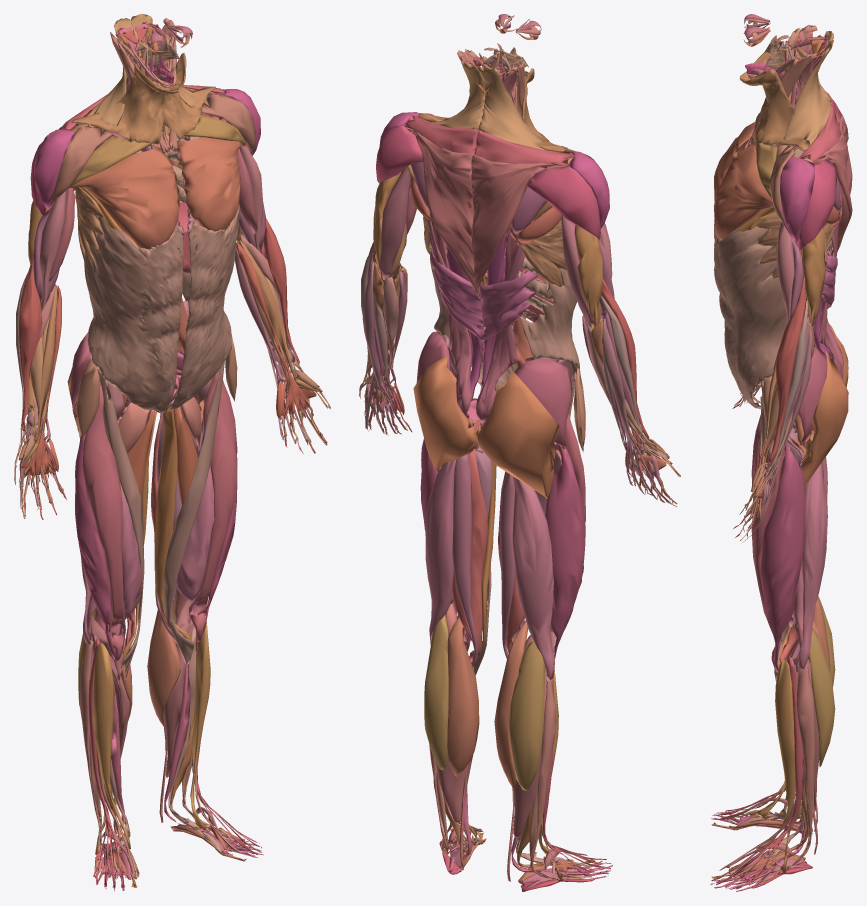
The model's file is body-muscles.lod1.glb.
3 views of the same model, side by side, from view 1: azimuth 30°, elevation 25°; view 2: azimuth 150°, elevation 25°; view 3: azimuth 270°, elevation 25° (orthographic).
Visible parts, largest first — view 1: external-oblique-r, external-oblique-l, sternocostal-part-of-pectoralis-major-r, rectus-femoris-r, sternocostal-part-of-pectoralis-major-l, rectus-femoris-l, sartorius-l, vastus-lateralis-r, platysma-r, gracilis-l, sartorius-r, tibialis-anterior-r (+43 smaller); view 2: gluteus-maximus-r, long-head-of-biceps-femoris-r, vastus-lateralis-r, ascending-part-of-trapezius-l, ascending-part-of-trapezius-r, gluteus-maximus-l, lateral-head-of-gastrocnemius-r, medial-head-of-gastrocnemius-l, long-head-of-biceps-femoris-l, external-oblique-r, semitendinosus-l, lateral-head-of-gastrocnemius-l (+44 smaller); view 3: external-oblique-l, vastus-lateralis-l, long-head-of-biceps-femoris-l, sternocostal-part-of-pectoralis-major-l, gluteus-maximus-l, tibialis-anterior-l, platysma-l, descending-part-of-trapezius-l, acromial-part-of-deltoid-l, brachioradialis-l, lateral-head-of-gastrocnemius-l, fibularis-longus-l (+33 smaller).
Boxes of the visible parts, x1,y1,x2,y2 form: external-oblique-r: (84,216,183,412); external-oblique-l: (168,203,240,409); sternocostal-part-of-pectoralis-major-r: (69,146,179,248); rectus-femoris-r: (82,382,125,661); sternocostal-part-of-pectoralis-major-l: (177,137,241,231); rectus-femoris-l: (188,370,237,642); sartorius-l: (163,361,224,664); vastus-lateralis-r: (75,433,116,660); platysma-r: (71,64,176,144); gracilis-l: (155,407,191,640); sartorius-r: (99,373,144,679); tibialis-anterior-r: (93,641,130,848); gluteus-maximus-r: (476,371,560,498); long-head-of-biceps-femoris-r: (512,476,554,679); vastus-lateralis-r: (545,443,585,659); ascending-part-of-trapezius-l: (414,131,480,298); ascending-part-of-trapezius-r: (471,154,556,298); gluteus-maximus-l: (413,356,477,471); lateral-head-of-gastrocnemius-r: (509,641,545,790); medial-head-of-gastrocnemius-l: (446,617,479,776); long-head-of-biceps-femoris-l: (425,460,456,645); external-oblique-r: (519,268,580,374); semitendinosus-l: (452,453,478,667); lateral-head-of-gastrocnemius-l: (424,614,448,770); external-oblique-l: (714,226,810,408); vastus-lateralis-l: (760,441,805,671); long-head-of-biceps-femoris-l: (797,463,827,668); sternocostal-part-of-pectoralis-major-l: (714,142,773,238); gluteus-maximus-l: (801,351,848,486); tibialis-anterior-l: (756,658,795,851); platysma-l: (739,69,809,150); descending-part-of-trapezius-l: (783,40,833,146); acromial-part-of-deltoid-l: (780,156,814,241); brachioradialis-l: (768,274,806,463); lateral-head-of-gastrocnemius-l: (793,621,835,767); fibularis-longus-l: (763,663,814,867).
Bounding box in the file's own units: 0.6387 × 1.61 × 0.251.
